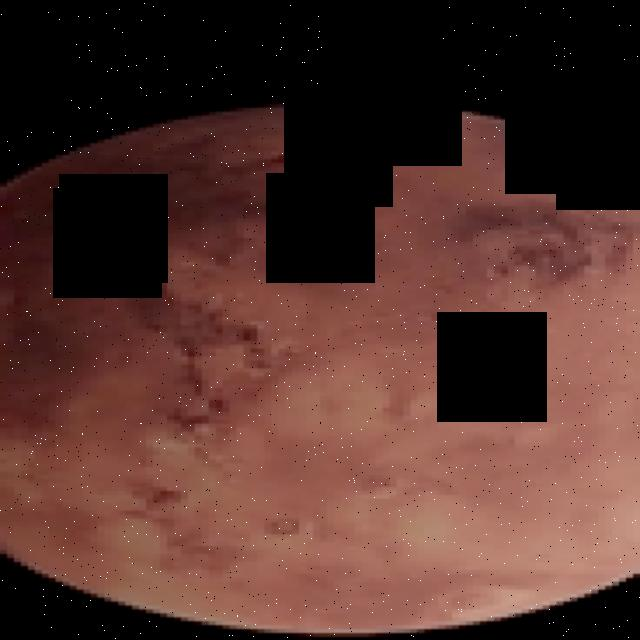Mars: (0, 103, 640, 636)
